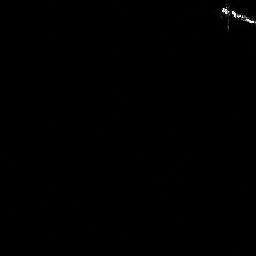ship: (217, 3, 256, 26)
